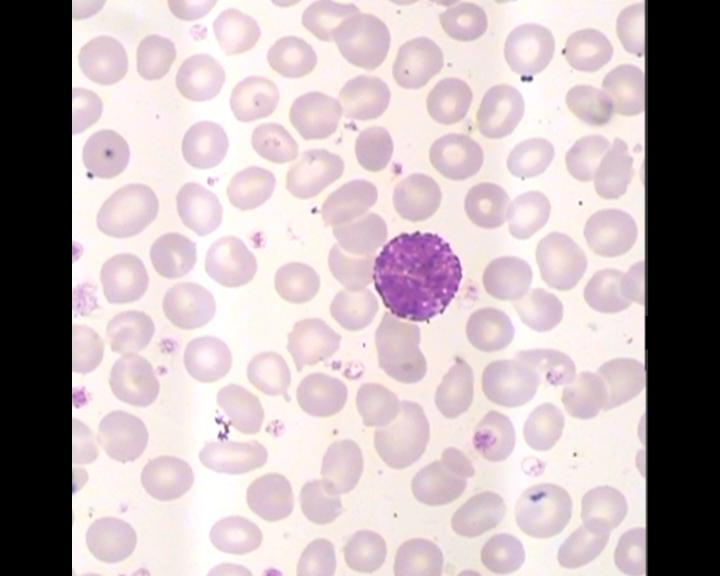baso: (369, 225, 467, 330)
